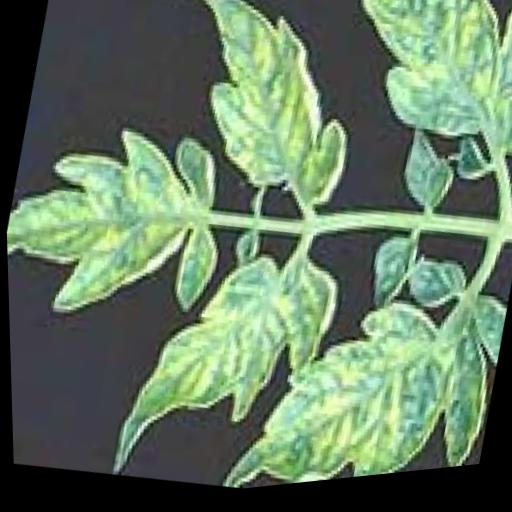Mosaic Virus: (213, 221, 512, 495), (101, 222, 352, 504), (3, 97, 242, 352), (140, 0, 385, 230), (309, 0, 512, 214)
